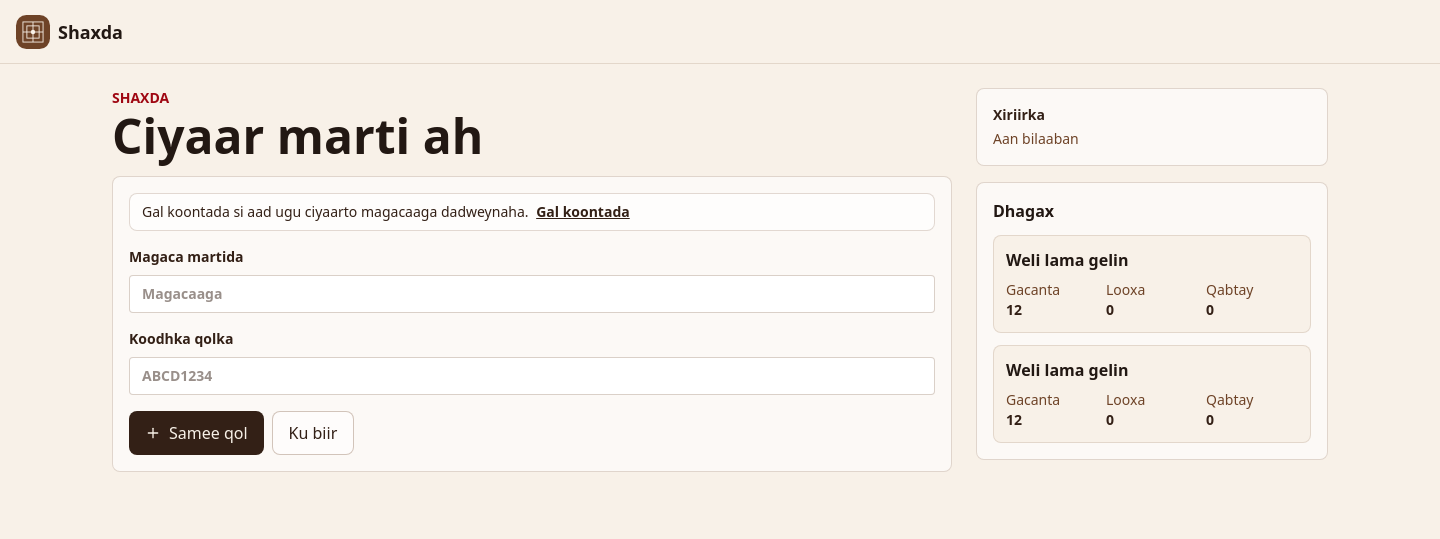
Test: /online › shows a useful empty-name error and focuses the field
Click the button with test id "create-room": coordinates (196, 433) [129,411,264,455]
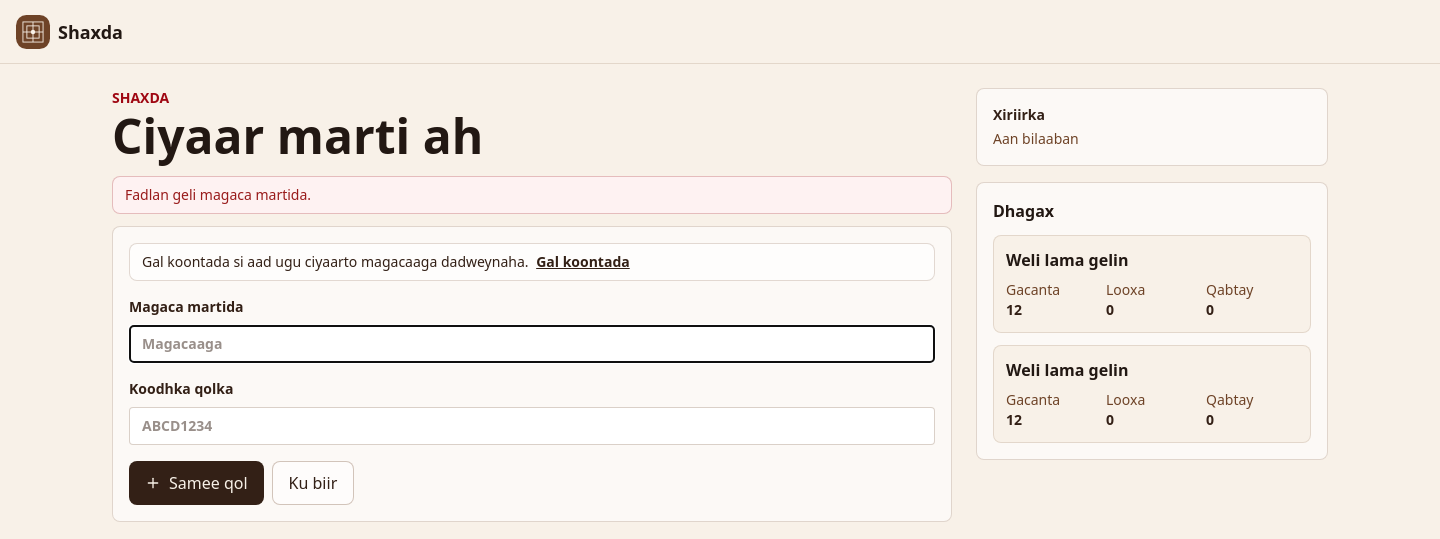
Check: the message with test id "online-feedback" reads "Fadlan geli magaca martida.", box [125,185,311,204]
